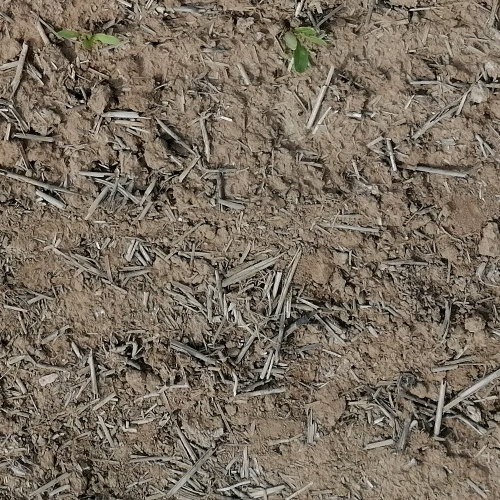beet: (284, 23, 328, 73), (57, 26, 122, 51)
